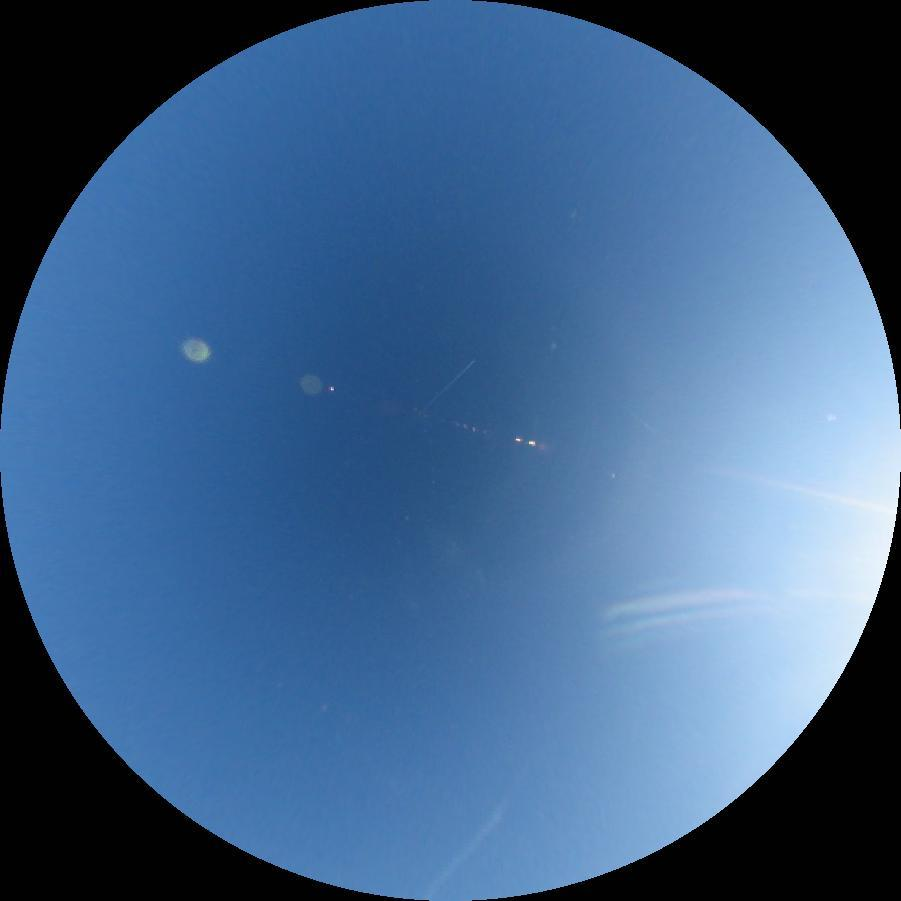contrail veryold: (422, 793, 518, 901)
contrail young: (421, 359, 476, 411), (622, 403, 655, 435)
parasite: (699, 464, 886, 511), (602, 580, 789, 622)
